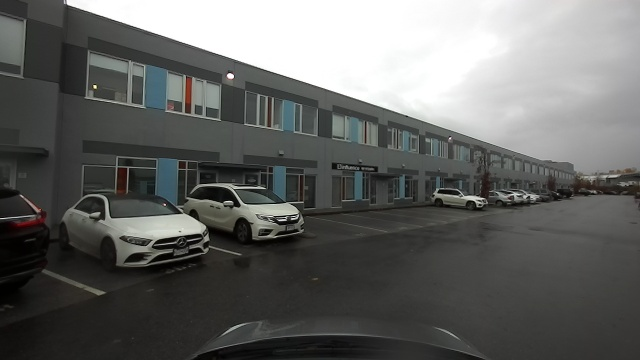car: (60, 194, 214, 265), (186, 179, 307, 245), (431, 186, 488, 212), (492, 188, 515, 209)
